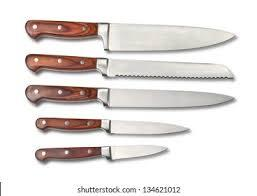Knife: (24, 19, 237, 51), (25, 53, 234, 79), (24, 84, 235, 108), (35, 117, 190, 135), (34, 144, 168, 161)
